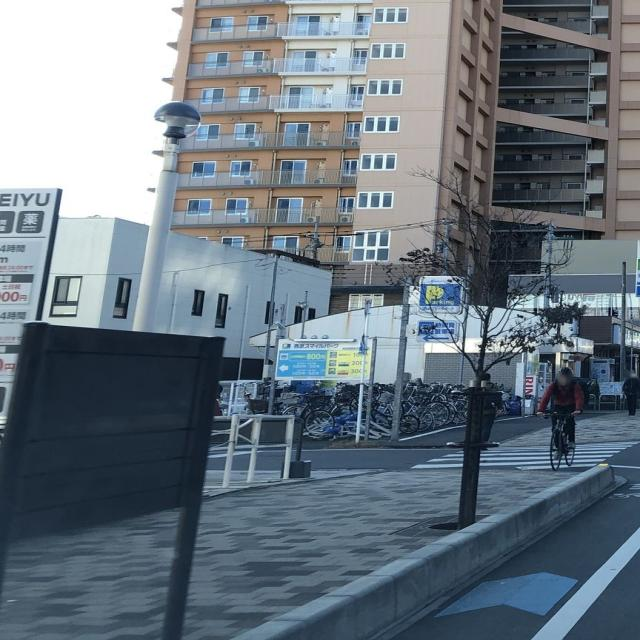dogwood: (375, 163, 594, 528)
